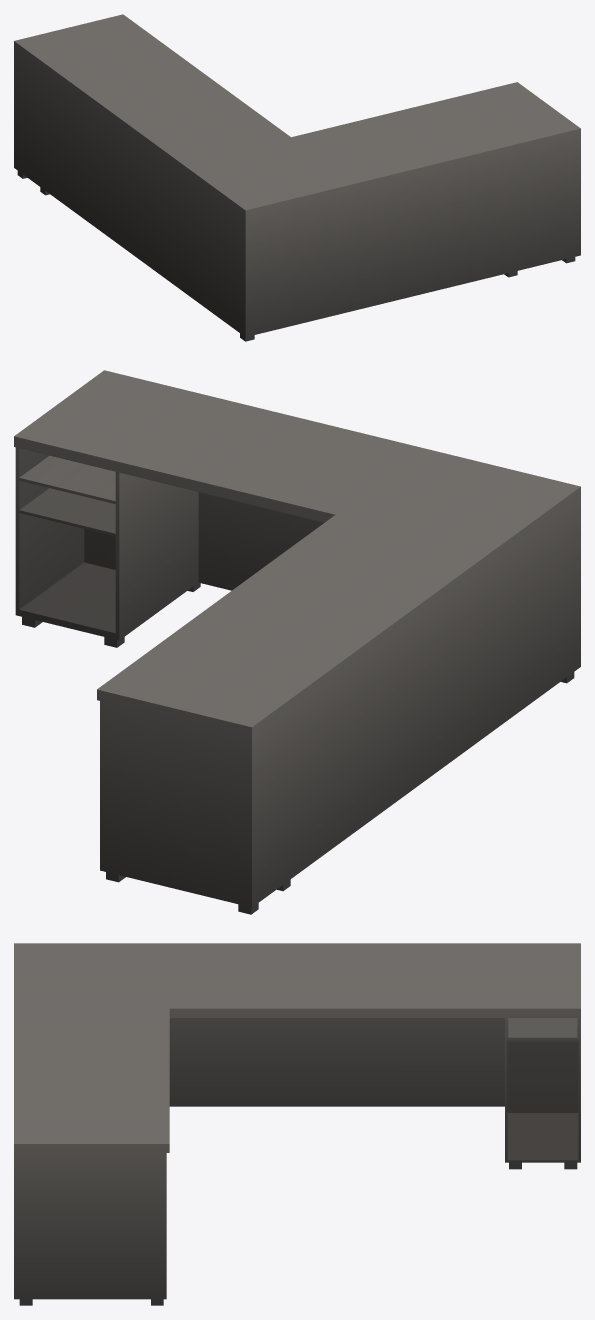
File: Desk_Corner_Booth_B_Open_Gray.fbx
3 views of the same model, one above another, from view 1: azimuth 30°, elevation 25°; view 2: azimuth 150°, elevation 25°; view 3: azimuth 270°, elevation 25° (orthographic). The views are drawn at different scales.
Visible parts, largest first — view 1: Desk_Corner_Booth_B_Open_Gray; view 2: Desk_Corner_Booth_B_Open_Gray; view 3: Desk_Corner_Booth_B_Open_Gray.
Boxes of the visible parts, box(x1,y1,x2,y2) form: Desk_Corner_Booth_B_Open_Gray: box(14, 14, 580, 341); Desk_Corner_Booth_B_Open_Gray: box(14, 370, 580, 914); Desk_Corner_Booth_B_Open_Gray: box(14, 943, 580, 1305).
Size of the model in its own units: 184 by 70 by 220.
